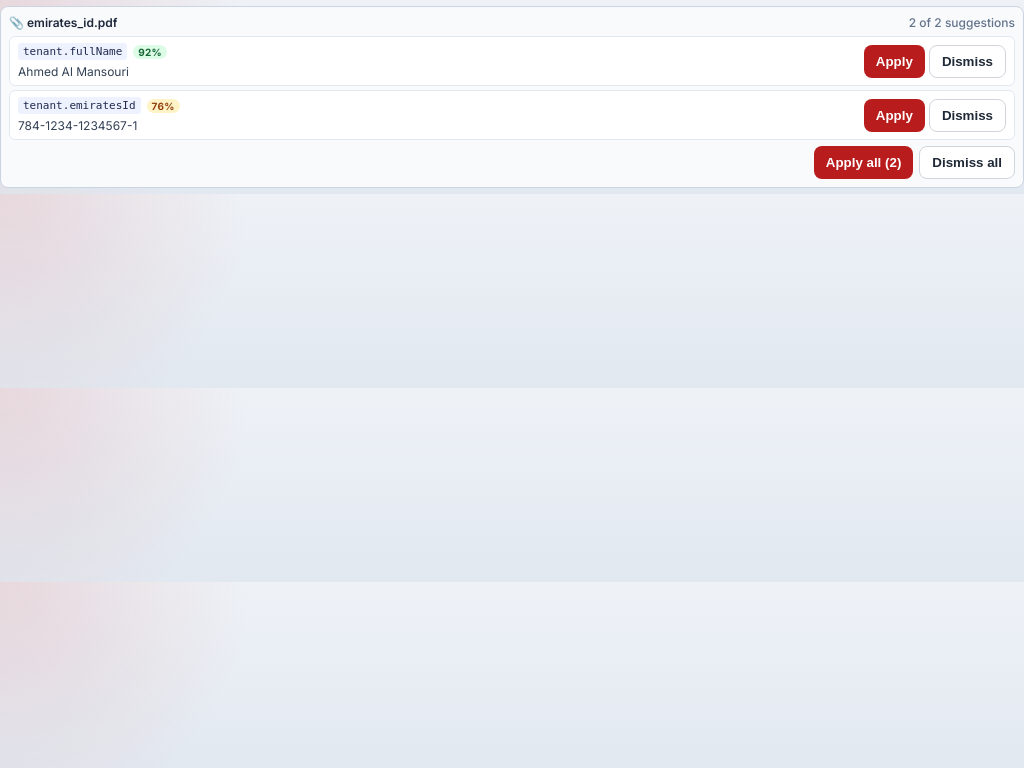
Test: FileExtractionPanel — Dismiss › removes the row from the list after dismissal
Click the button "Dismiss" in the row of "fullName" at [967, 61], box [929,44,1006,78]
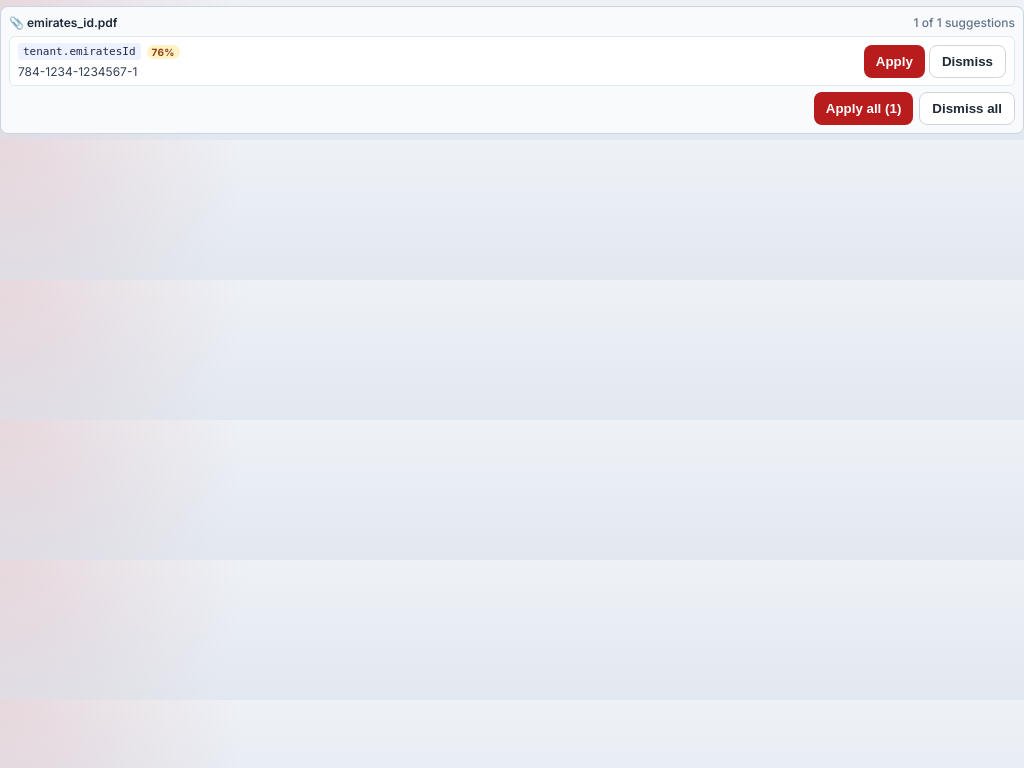
Expected: the text "tenant.emiratesId" is shown, [18,43,141,60]
Now the text "tenant.fullName" is gone
